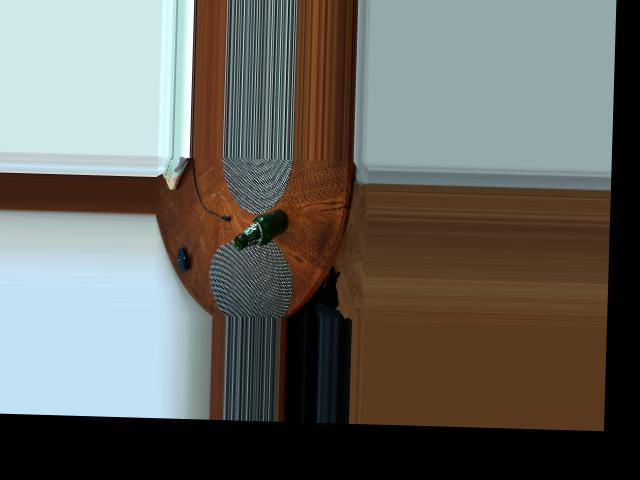beer: (234, 205, 289, 251)
